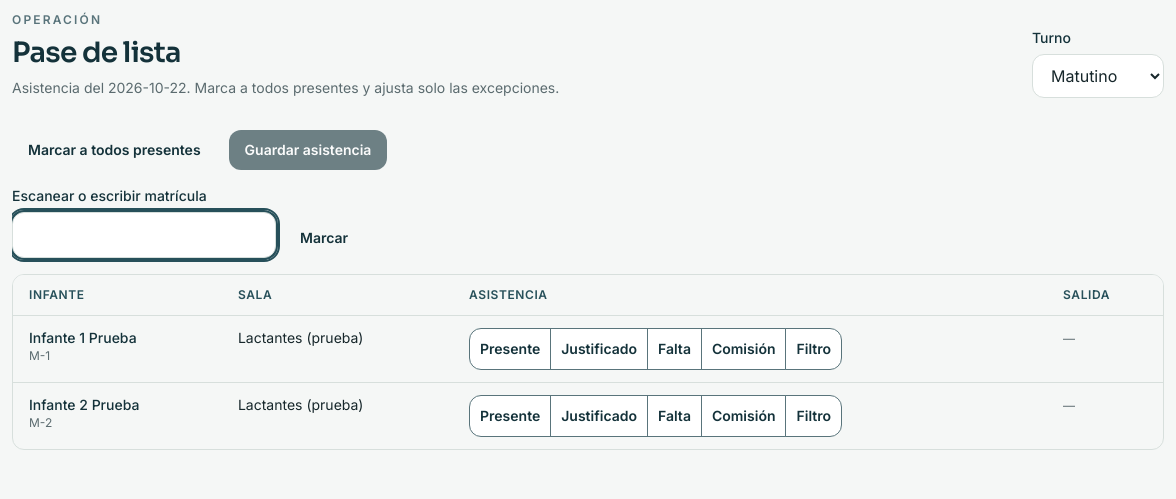
it: escaneo en el pase de lista (RF-13) › un lector que escribe la matrícula y manda Enter marca presente y avisa a quién
The image size is (1176, 499).
Type "M-2" into the field labelled "Escanear o escribir matrícula".
click(144, 235); type("M-2")  # box [12,212,276,258]
Then press Enter
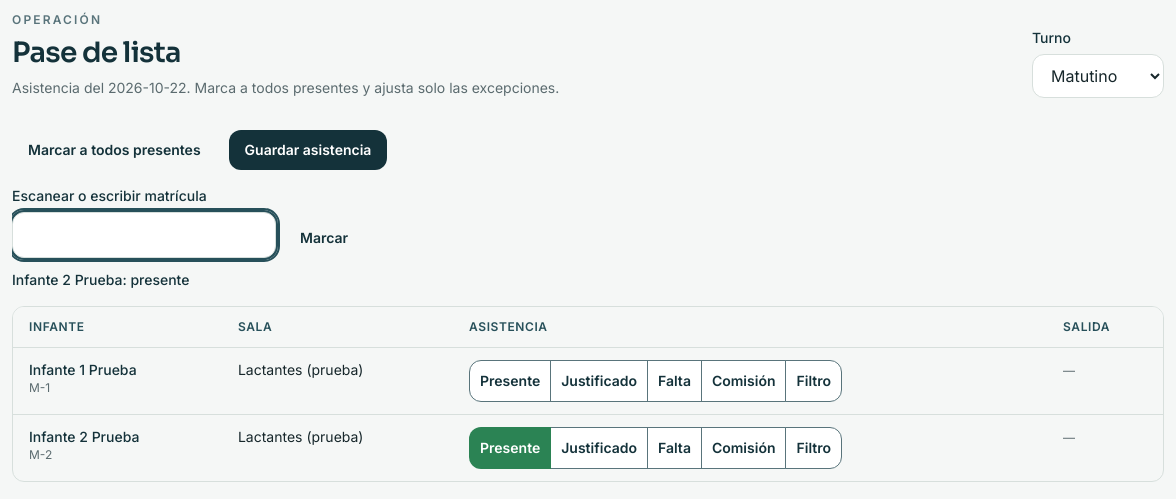
Expected: the button "Presente" in the row of "M-2" is shown, [469,427,551,469]
Expected: the message reads "Infante 2 Prueba: presente", [12,271,190,288]
